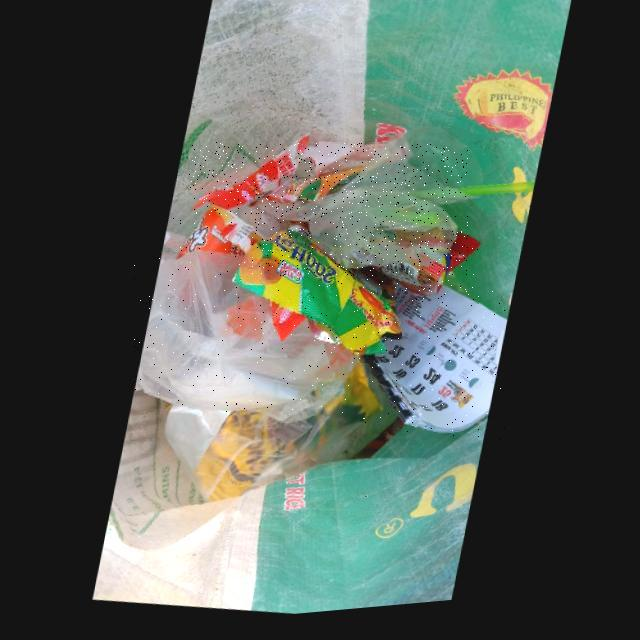paper: (364, 289, 506, 442)
plastic: (134, 254, 352, 415), (252, 143, 468, 276)
wrapper: (230, 231, 400, 362), (189, 142, 305, 214), (379, 241, 479, 303), (174, 208, 262, 262)
